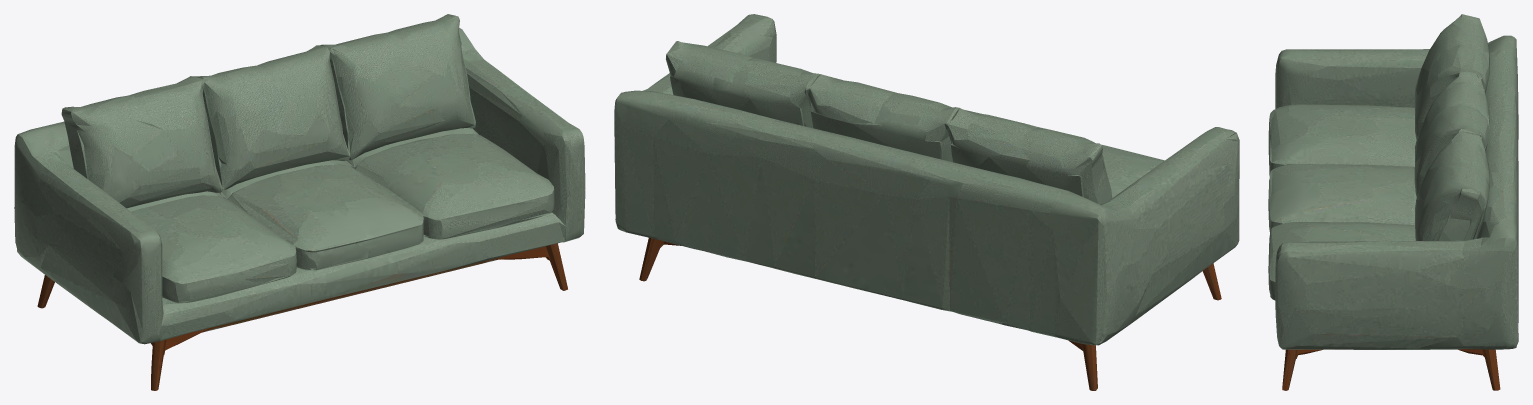
Rendered from sofa.glb.
3 renders of one model, left to right at view 1: azimuth 30°, elevation 25°; view 2: azimuth 150°, elevation 25°; view 3: azimuth 270°, elevation 25°, orthographic. The views are drawn at different scales.
Size of the model in its own units: 1.9 by 0.8265 by 0.9617.
1 material, 1 textured.
